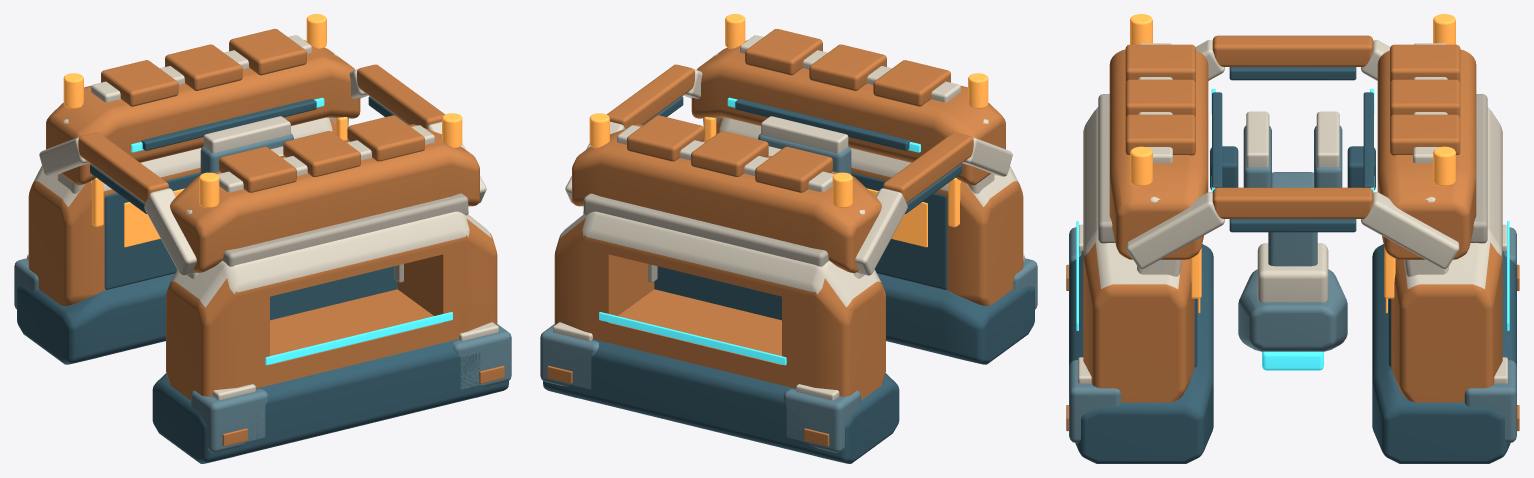
Rendered from equipment.glb.
3 renders of one model, left to right at view 1: azimuth 30°, elevation 25°; view 2: azimuth 150°, elevation 25°; view 3: azimuth 270°, elevation 25°, orthographic. The views are drawn at different scales.
Visible parts, largest first — view 1: Continuous orange load cheek, Open bay orange head rail, Deep pressure foot wrapped around section, Open bay orange head rail.001, Continuous orange load cheek.001, Deep pressure foot wrapped around section.001, Upper bevel armor, Inset inner bay wall.001, Deep blue load shoe, Inset inner bay wall, Portal crown edge, Portal crown edge.001 (+23 smaller); view 2: Continuous orange load cheek.001, Open bay orange head rail.001, Deep pressure foot wrapped around section.001, Open bay orange head rail, Continuous orange load cheek, Deep pressure foot wrapped around section, Upper bevel armor.001, Inset inner bay wall, Deep blue load shoe.002, Inset inner bay wall.001, Portal crown edge, Portal crown edge.001 (+23 smaller); view 3: Continuous orange load cheek, Continuous orange load cheek.001, Deep pressure foot wrapped around section.001, Deep pressure foot wrapped around section, Open bay orange head rail, Open bay orange head rail.001, Broad service tool, Portal crown edge, Portal crown edge.001, End portal ivory shoulder left.001, End portal ivory shoulder right.001, Tool ivory collar (+34 smaller).
Part boxes in pixels (x1=…): Continuous orange load cheek: x1=166, y1=211, x2=497, y2=400; Open bay orange head rail: x1=170, y1=124, x2=479, y2=272; Deep pressure foot wrapped around section: x1=152, y1=339, x2=508, y2=463; Open bay orange head rail.001: x1=46, y1=40, x2=360, y2=185; Continuous orange load cheek.001: x1=28, y1=117, x2=335, y2=305; Deep pressure foot wrapped around section.001: x1=17, y1=273, x2=174, y2=364; Upper bevel armor: x1=223, y1=193, x2=468, y2=266; Inset inner bay wall.001: x1=104, y1=172, x2=200, y2=289; Deep blue load shoe: x1=191, y1=389, x2=268, y2=452; Inset inner bay wall: x1=270, y1=266, x2=397, y2=320; Portal crown edge: x1=78, y1=132, x2=168, y2=203; Portal crown edge.001: x1=357, y1=64, x2=444, y2=128; Continuous orange load cheek.001: x1=554, y1=211, x2=885, y2=400; Open bay orange head rail.001: x1=572, y1=124, x2=881, y2=272; Deep pressure foot wrapped around section.001: x1=543, y1=339, x2=899, y2=463; Open bay orange head rail: x1=691, y1=40, x2=1005, y2=185; Continuous orange load cheek: x1=716, y1=117, x2=1023, y2=305; Deep pressure foot wrapped around section: x1=877, y1=273, x2=1034, y2=364; Upper bevel armor.001: x1=583, y1=193, x2=828, y2=266; Inset inner bay wall: x1=851, y1=172, x2=947, y2=289; Deep blue load shoe.002: x1=783, y1=389, x2=860, y2=452; Inset inner bay wall.001: x1=654, y1=266, x2=781, y2=320; Portal crown edge: x1=883, y1=132, x2=973, y2=203; Portal crown edge.001: x1=607, y1=64, x2=694, y2=128; Continuous orange load cheek: x1=1083, y1=107, x2=1194, y2=402; Continuous orange load cheek.001: x1=1391, y1=107, x2=1502, y2=402; Deep pressure foot wrapped around section.001: x1=1372, y1=244, x2=1516, y2=463; Deep pressure foot wrapped around section: x1=1069, y1=244, x2=1213, y2=463; Open bay orange head rail: x1=1109, y1=49, x2=1208, y2=259; Open bay orange head rail.001: x1=1377, y1=49, x2=1476, y2=259; Broad service tool: x1=1238, y1=269, x2=1347, y2=351; Portal crown edge: x1=1212, y1=35, x2=1373, y2=66; Portal crown edge.001: x1=1212, y1=187, x2=1373, y2=218; End portal ivory shoulder left.001: x1=1126, y1=192, x2=1224, y2=269; End portal ivory shoulder right.001: x1=1361, y1=192, x2=1459, y2=269; Tool ivory collar: x1=1257, y1=243, x2=1328, y2=302.
Size of the model in its own units: 2.24 by 1.87 by 2.57.
